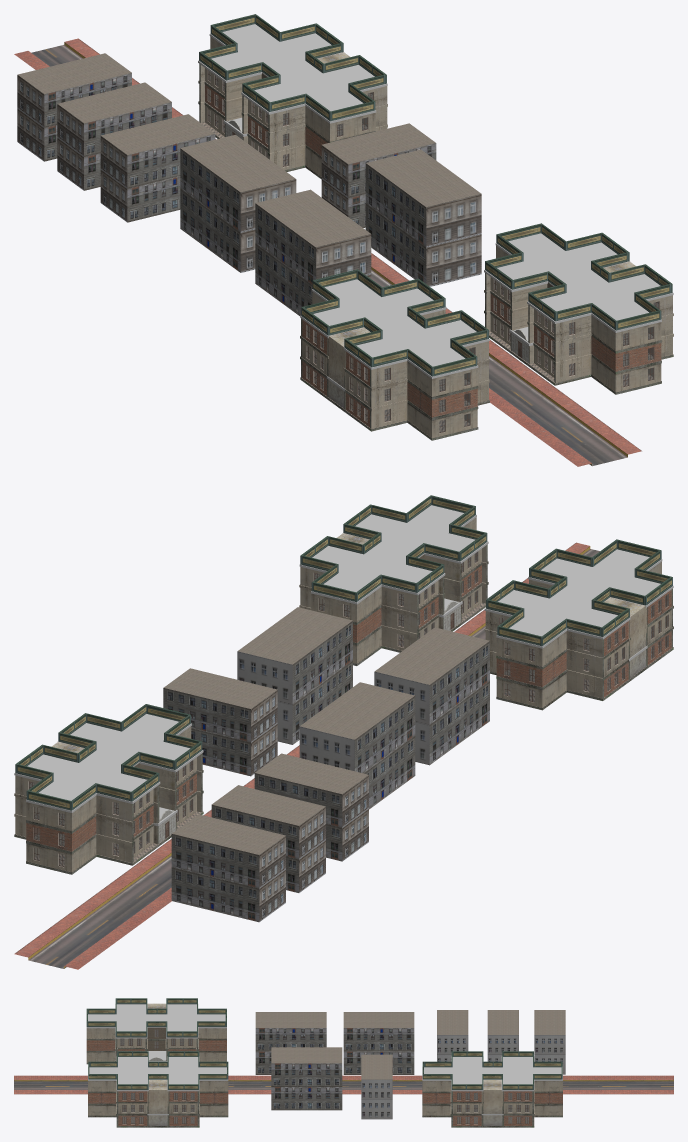
3 views of the same model, one above another, from view 1: azimuth 30°, elevation 25°; view 2: azimuth 150°, elevation 25°; view 3: azimuth 270°, elevation 25° (orthographic). The views are drawn at different scales.
Parts seen in each view (by area): view 1: pCube34_houe_2k19_6:houe_2k19_3:houe_2k19_3:houe_2k19_2:houe (×10), pCube38_houe_2k19_6:houe_2k19_3:houe_2k19_3:houe_2k19_2:houe (×10), houe_2k19_6:houe_2k19_3:houe_2k19_3:houe_2k19_2:houe_2k19_1: (×8), polySurface155, polySurface156, polySurface157, pCube37, pPlane29, pCube36, pCube35, pCube3, Road:pPlane28 (+1 smaller); view 2: pCube34_houe_2k19_6:houe_2k19_3:houe_2k19_3:houe_2k19_2:houe (×10), houe_2k19_6:houe_2k19_3:houe_2k19_3:houe_2k19_2:houe_2k19_1: (×10), pCube38_houe_2k19_6:houe_2k19_3:houe_2k19_3:houe_2k19_2:houe (×8), pCube35, polySurface157, polySurface155, polySurface156, pCube3, Road:pPlane28, pCube37, pCube36, pPlane29; view 3: pCube38_houe_2k19_6:houe_2k19_3:houe_2k19_3:houe_2k19_2:houe (×9), houe_2k19_6:houe_2k19_3:houe_2k19_3:houe_2k19_2:houe_2k19_1: (×9), pCube34_houe_2k19_6:houe_2k19_3:houe_2k19_3:houe_2k19_2:houe (×7), polySurface155, polySurface156, polySurface157, Road:pPlane28, pCube3, pPlane28, pCube35, pPlane29, pCube36 (+1 smaller).
Part boxes in pixels (bbox=[...]): pCube34_houe_2k19_6:houe_2k19_3:houe_2k19_3:houe_2k19_2:houe (×10): bbox=[300, 269, 489, 440]; pCube38_houe_2k19_6:houe_2k19_3:houe_2k19_3:houe_2k19_2:houe (×10): bbox=[484, 223, 673, 394]; houe_2k19_6:houe_2k19_3:houe_2k19_3:houe_2k19_2:houe_2k19_1: (×8): bbox=[198, 14, 387, 176]; polySurface155: bbox=[365, 149, 481, 286]; polySurface156: bbox=[180, 134, 296, 272]; polySurface157: bbox=[255, 189, 371, 316]; pCube37: bbox=[100, 114, 215, 222]; pPlane29: bbox=[489, 340, 641, 466]; pCube36: bbox=[57, 82, 171, 190]; pCube35: bbox=[17, 53, 131, 161]; pCube3: bbox=[321, 123, 436, 227]; Road:pPlane28: bbox=[14, 38, 215, 139]; pCube34_houe_2k19_6:houe_2k19_3:houe_2k19_3:houe_2k19_2:houe (×10): bbox=[484, 539, 673, 710]; houe_2k19_6:houe_2k19_3:houe_2k19_3:houe_2k19_2:houe_2k19_1: (×10): bbox=[14, 704, 203, 874]; pCube38_houe_2k19_6:houe_2k19_3:houe_2k19_3:houe_2k19_2:houe (×8): bbox=[299, 495, 488, 663]; pCube35: bbox=[171, 814, 285, 922]; polySurface157: bbox=[374, 627, 489, 765]; polySurface155: bbox=[237, 607, 352, 744]; polySurface156: bbox=[299, 682, 415, 809]; pCube3: bbox=[163, 668, 277, 776]; Road:pPlane28: bbox=[14, 839, 171, 969]; pCube37: bbox=[254, 753, 368, 861]; pCube36: bbox=[211, 785, 325, 892]; pPlane29: bbox=[454, 542, 599, 639]; pCube38_houe_2k19_6:houe_2k19_3:houe_2k19_3:houe_2k19_2:houe (×9): bbox=[88, 1051, 228, 1127]; houe_2k19_6:houe_2k19_3:houe_2k19_3:houe_2k19_2:houe_2k19_1: (×9): bbox=[422, 1051, 562, 1127]; pCube34_houe_2k19_6:houe_2k19_3:houe_2k19_3:houe_2k19_2:houe (×7): bbox=[86, 998, 226, 1062]; polySurface155: bbox=[271, 1047, 342, 1110]; polySurface156: bbox=[343, 1012, 414, 1074]; polySurface157: bbox=[255, 1012, 326, 1074]; Road:pPlane28: bbox=[563, 1075, 673, 1094]; pCube3: bbox=[361, 1054, 392, 1119]; pPlane28: bbox=[233, 1075, 422, 1094]; pCube35: bbox=[534, 1010, 565, 1074]; pPlane29: bbox=[14, 1075, 234, 1094]; pCube36: bbox=[487, 1010, 518, 1061].
Size of the model in its own units: 1.37 by 0.3658 by 4.42.
